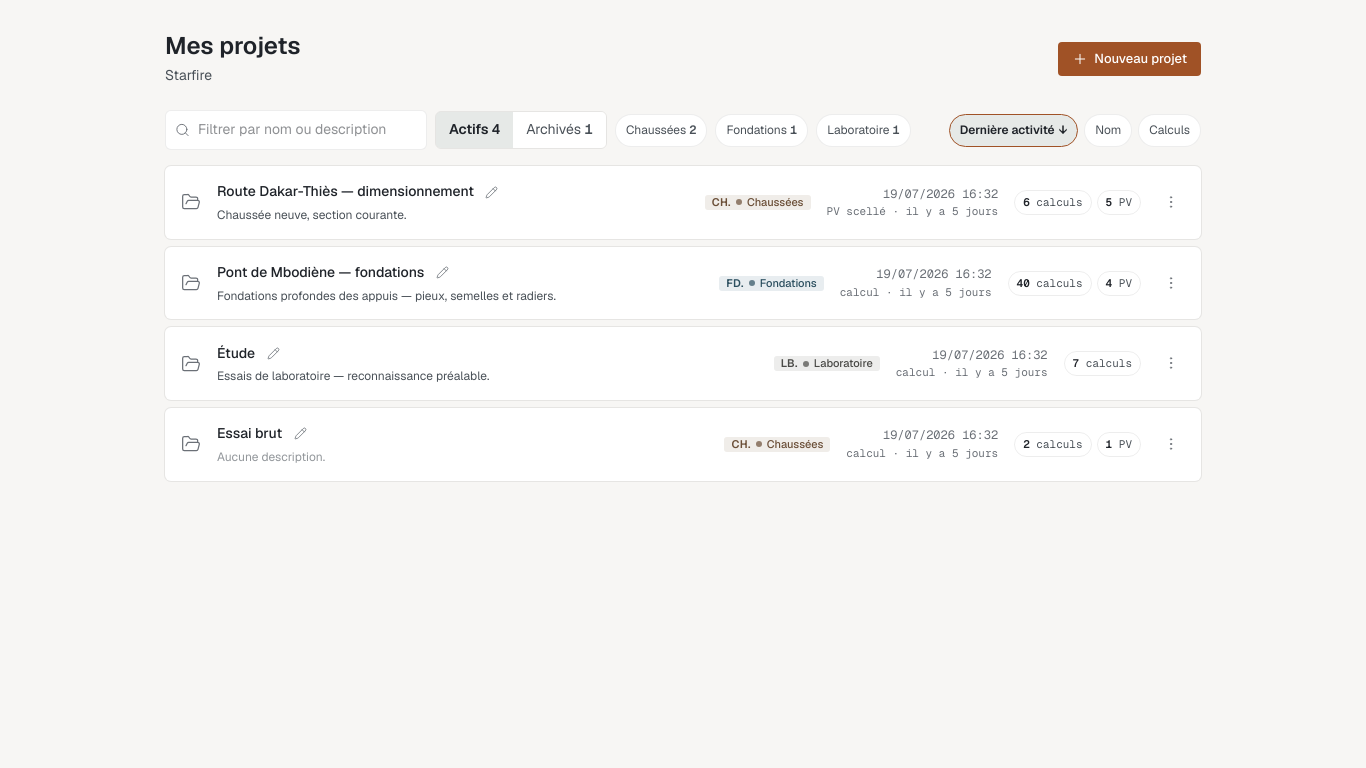
Test: Vue Archivés — suppression définitive (cas d’usage principal côté serveur) › #4 GIVEN la vue Archivés — WHEN un OWNER déclenche la suppression définitive — THEN la modale d’irréversibilité s’ouvre
Click the button "Archivés 1" at (560, 130), box x1=513 y1=112 x2=606 y2=148
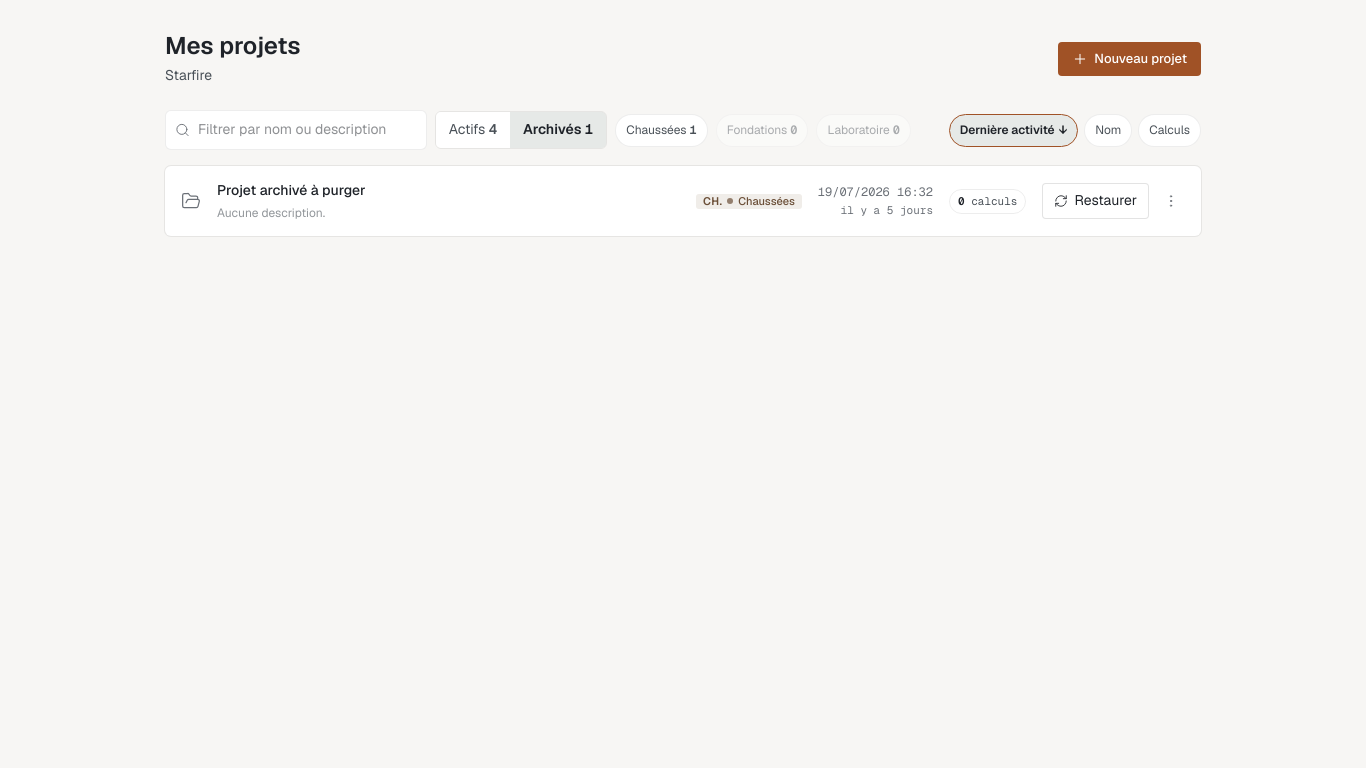
Click the button named "Actions sur le projet Projet archivé à purger" at (1171, 201), box x1=1157 y1=187 x2=1185 y2=215
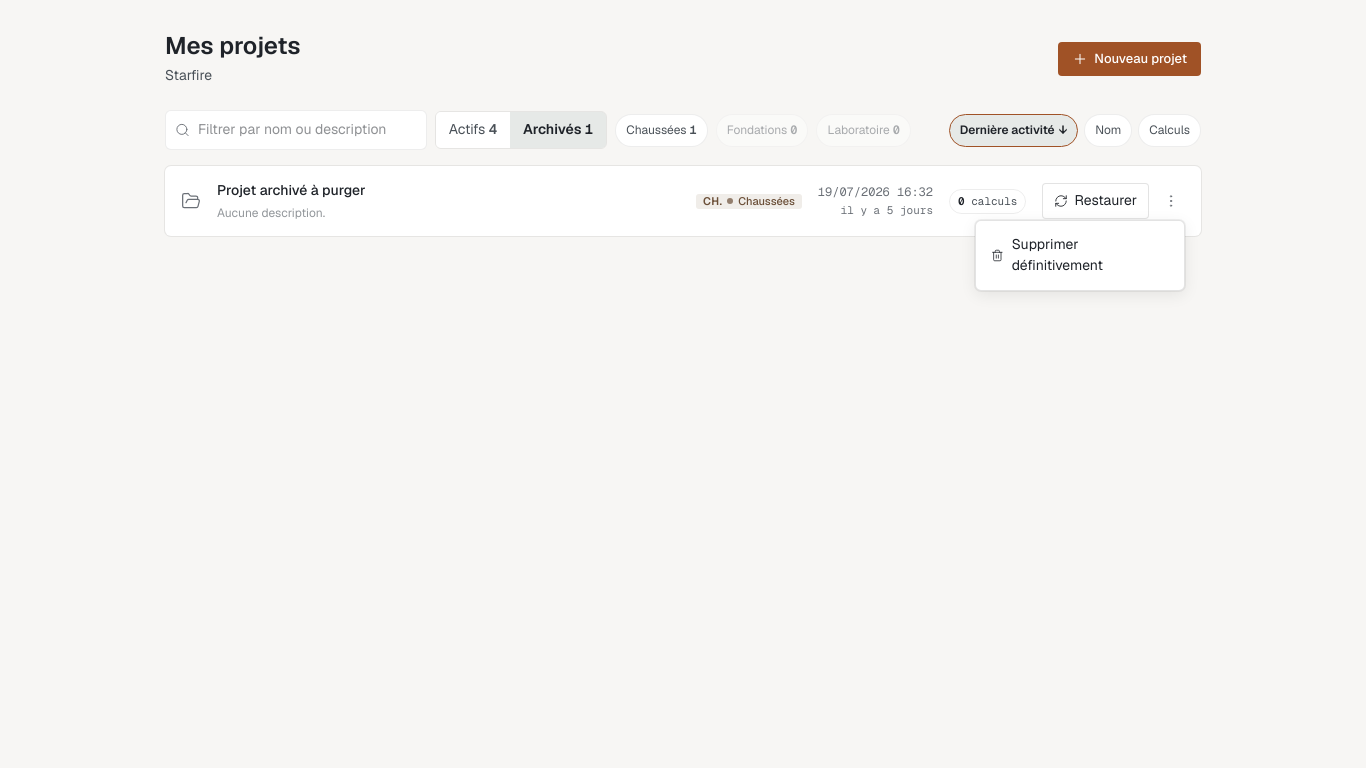
Click the menu item "Supprimer définitivement" at (1080, 255), box x1=981 y1=226 x2=1179 y2=285
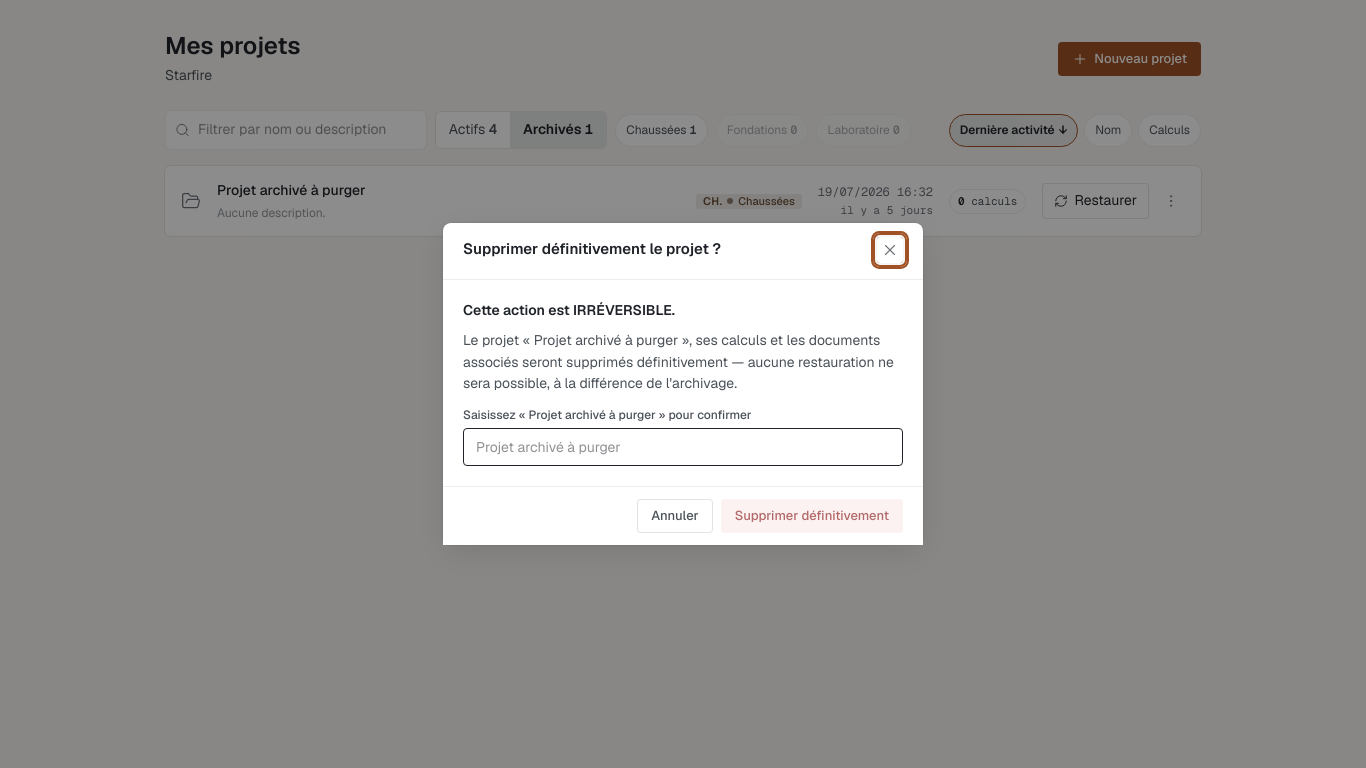
Now the text "Cette action est IRRÉVERSIBLE." is shown, box x1=463 y1=301 x2=675 y2=319
Now the field with id "hard-delete-confirm" is shown, box x1=463 y1=428 x2=903 y2=466
